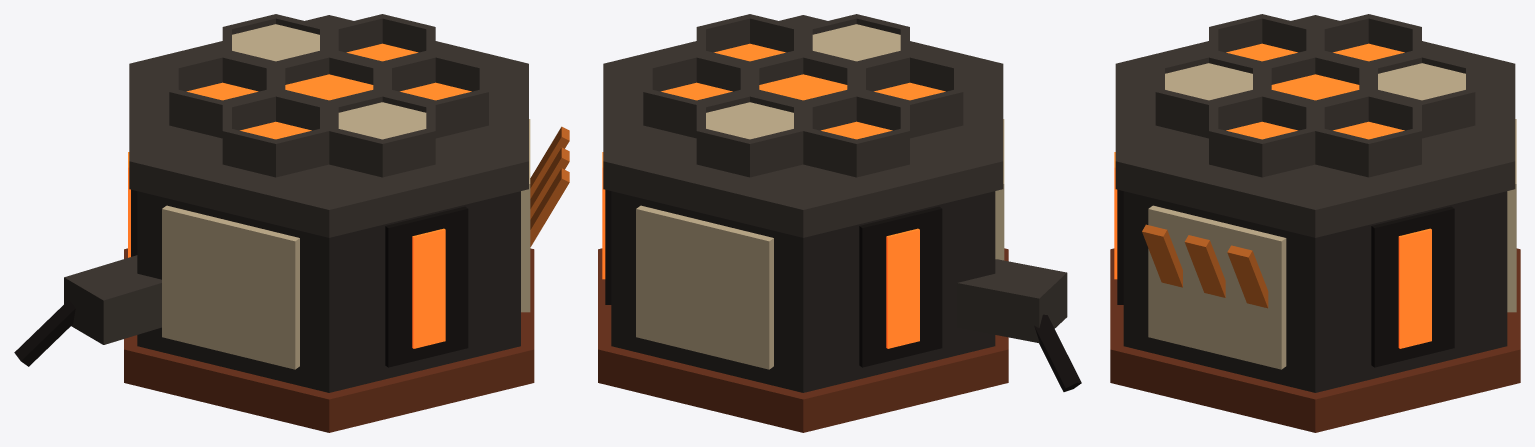
File: hive_core.glb
3 views of the same model, side by side, from view 1: azimuth 30°, elevation 25°; view 2: azimuth 150°, elevation 25°; view 3: azimuth 270°, elevation 25° (orthographic).
Visible parts, largest first — view 1: hive_core; view 2: hive_core; view 3: hive_core.
Boxes of the visible parts, x1,y1,x2,y2 form: hive_core: [14, 14, 569, 432]; hive_core: [598, 14, 1081, 432]; hive_core: [1110, 14, 1520, 432].
Bounding box in the file's own units: 0.1881 × 0.091 × 0.1334.
